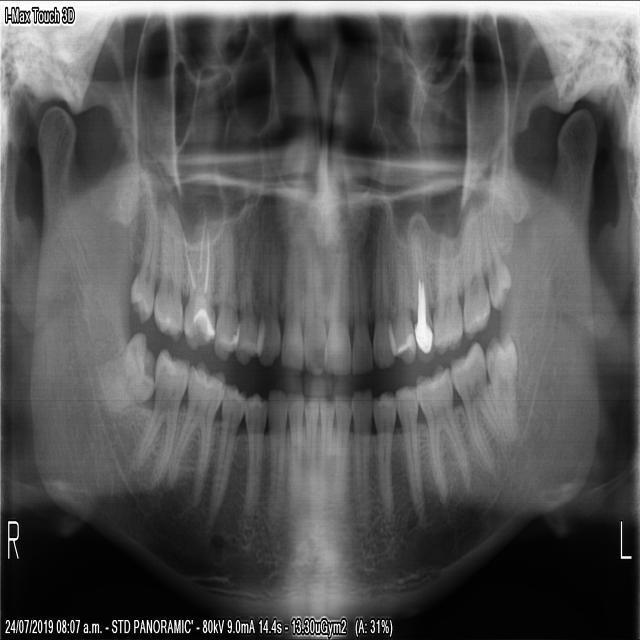LCD: (353, 383, 373, 521)
LCU: (373, 204, 394, 371)
LID: (318, 390, 335, 504), (335, 391, 351, 507)
LIU: (326, 207, 351, 380), (349, 210, 375, 370)
LMD: (451, 340, 510, 477), (417, 365, 475, 501), (484, 326, 522, 447)
LMU: (433, 212, 464, 358), (478, 196, 514, 316), (459, 205, 492, 333)
LPMD: (396, 379, 423, 521), (376, 390, 398, 524)
LPMU: (389, 224, 415, 371), (412, 210, 435, 372)
RCD: (266, 387, 288, 527)
RCU: (255, 210, 281, 362)
RID: (287, 391, 305, 510), (304, 396, 319, 516)
RIU: (300, 208, 324, 371), (280, 204, 303, 371)
RMD: (165, 358, 226, 508), (131, 349, 189, 485), (97, 327, 155, 419)
RMU: (153, 196, 186, 346), (182, 205, 215, 354), (130, 202, 163, 327)
RPMD: (209, 382, 245, 522), (244, 393, 265, 516)
RPMU: (210, 204, 235, 363), (234, 215, 256, 365)
